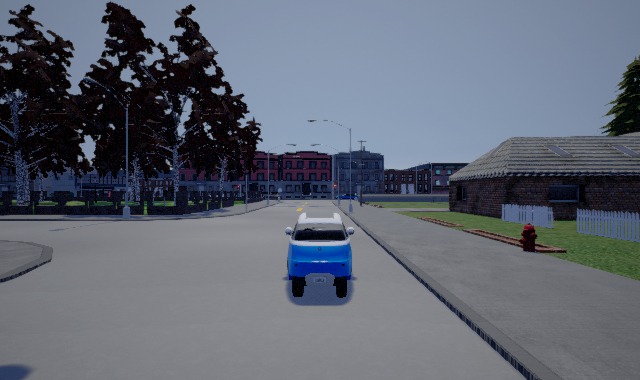vehicle: (285, 212, 354, 298)
